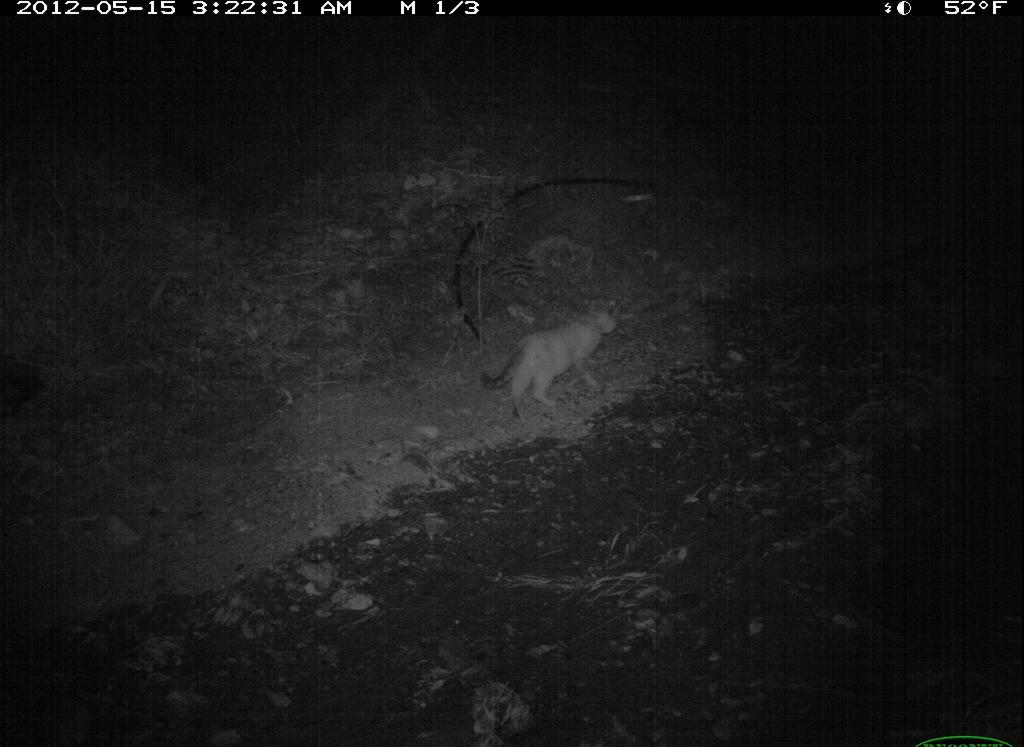cat: (479, 299, 625, 427)
